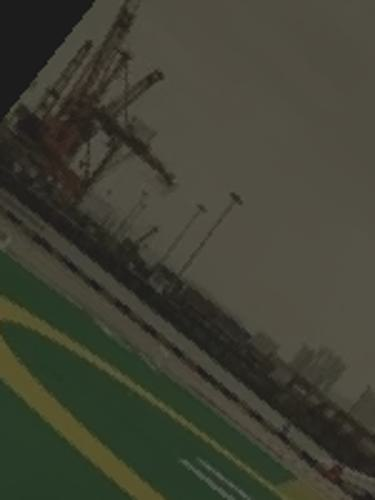Apron: (1, 292, 344, 500)
